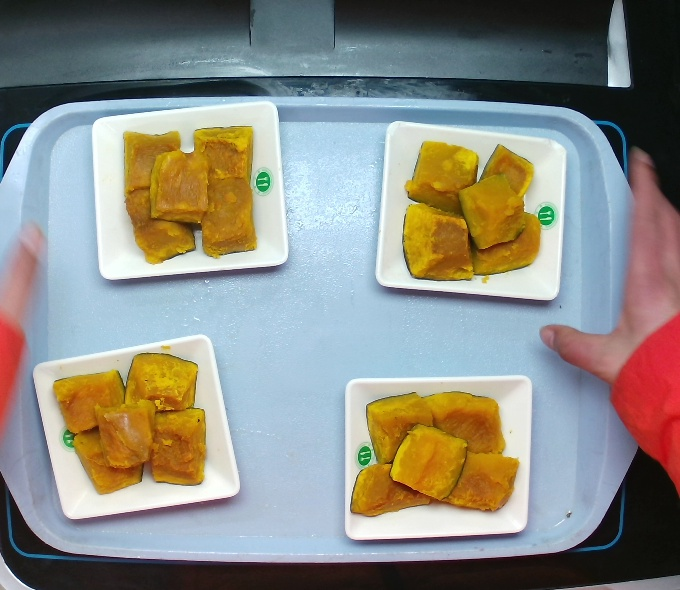wcq-RiBenNanGua: (397, 132, 554, 288), (365, 387, 527, 530), (61, 348, 209, 496), (118, 120, 261, 259)
